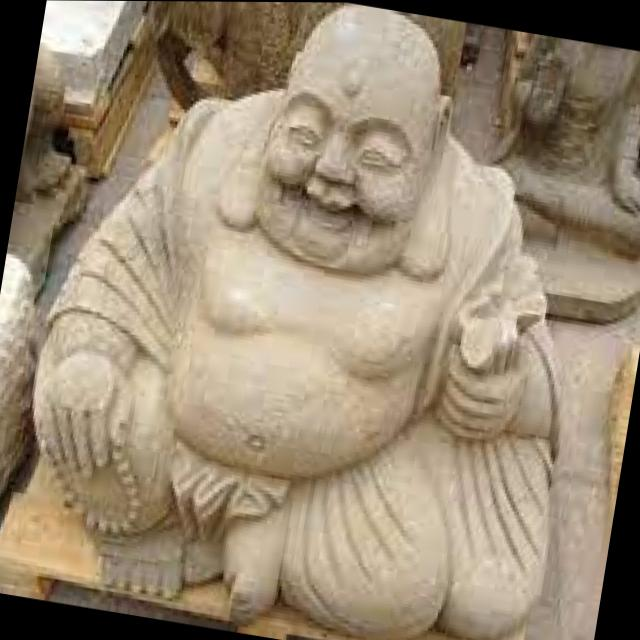Smiling Buddha: (111, 1, 510, 576)
